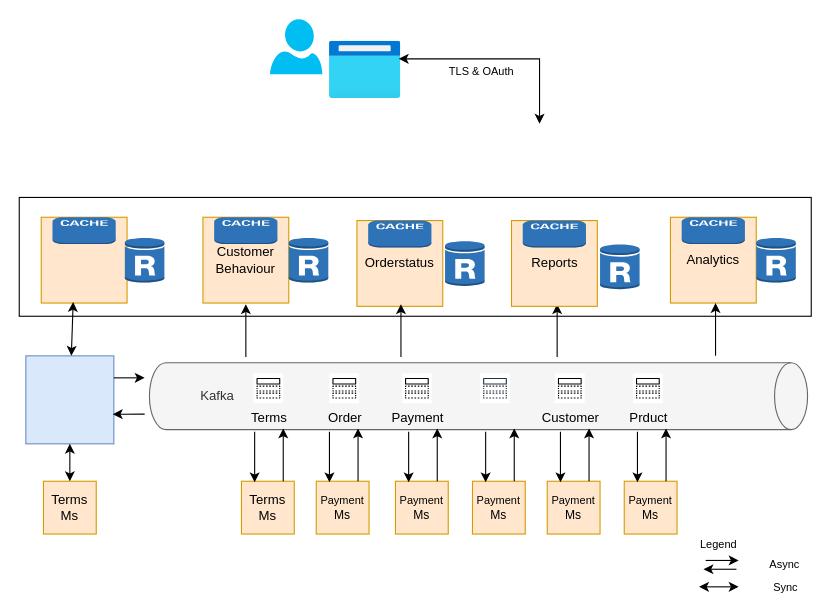
The diagram is 838 pixels wide and 616 high, and some of its shapes have lost their labels. The shapes that lost their labels are listed below. From the top down, each one's centre as x and y in pixels, then its label:
At point (69, 399): "MuleSoft".
At point (494, 387): "Price".
